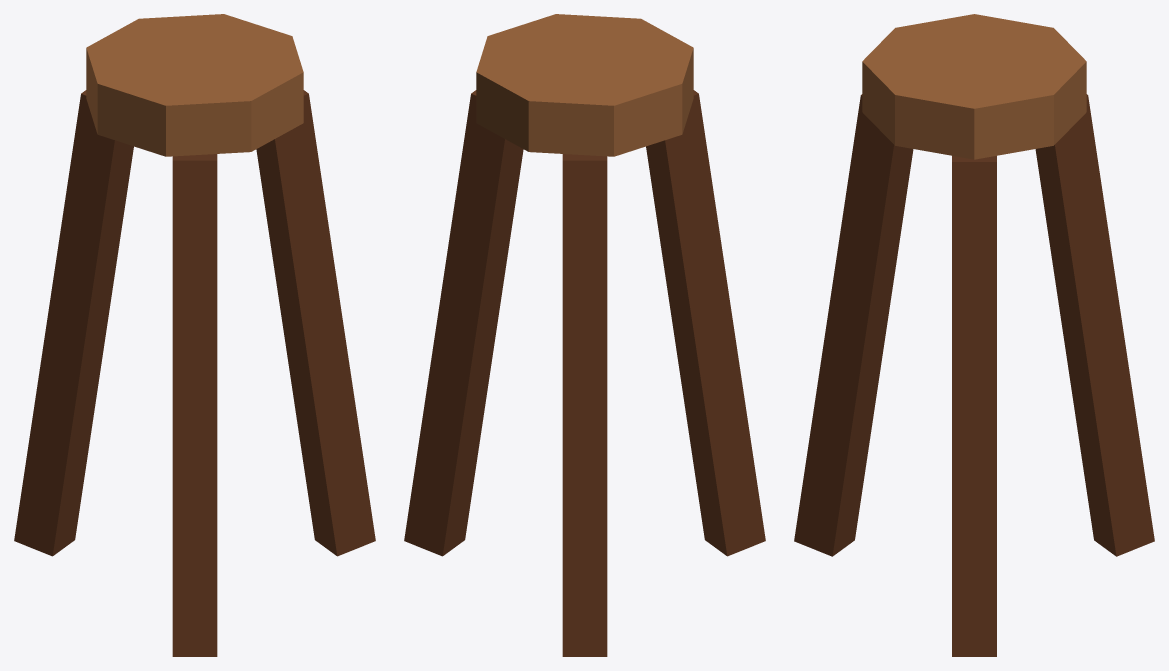
Rendered from stool.glb.
3 renders of one model, left to right at view 1: azimuth 30°, elevation 25°; view 2: azimuth 150°, elevation 25°; view 3: azimuth 270°, elevation 25°, orthographic.
Parts seen in each view (by area): view 1: props/stool; view 2: props/stool; view 3: props/stool.
Part boxes in pixels (x1,y1,x2,y2): props/stool: (14, 14, 375, 656); props/stool: (404, 14, 765, 656); props/stool: (794, 14, 1154, 656).
Size of the model in its own units: 0.2785 by 0.5104 by 0.3216.
